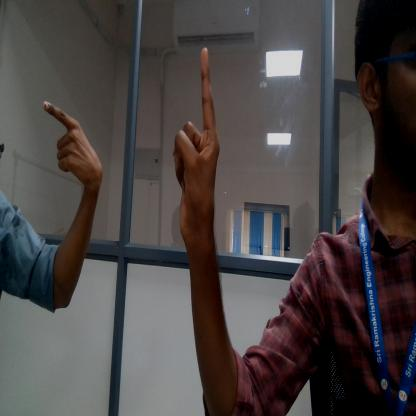Left: (37, 88, 108, 190)
Up: (169, 40, 223, 235)
